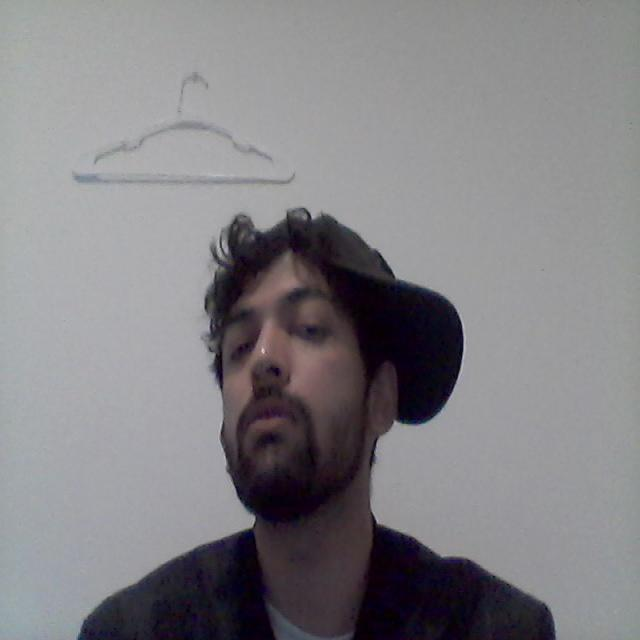cap: (178, 185, 496, 448)
